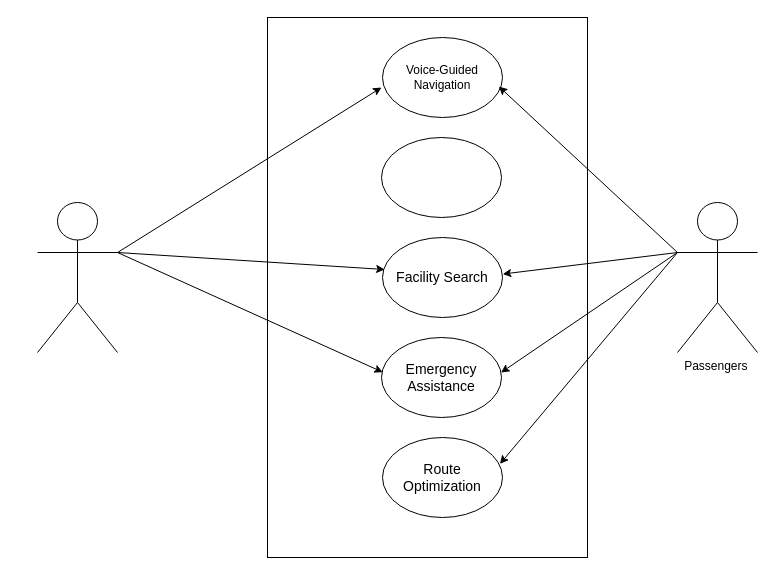
Some shapes in this 775 by 575 pixel diagram are drawn without their labels. The shapes that lost their labels are listed below. From the top down, each one's centre as x and y in pixels, then its label:
At point 441,177: "Real-Time Positioning".
At point 77,277: "Visually Impaired User".
